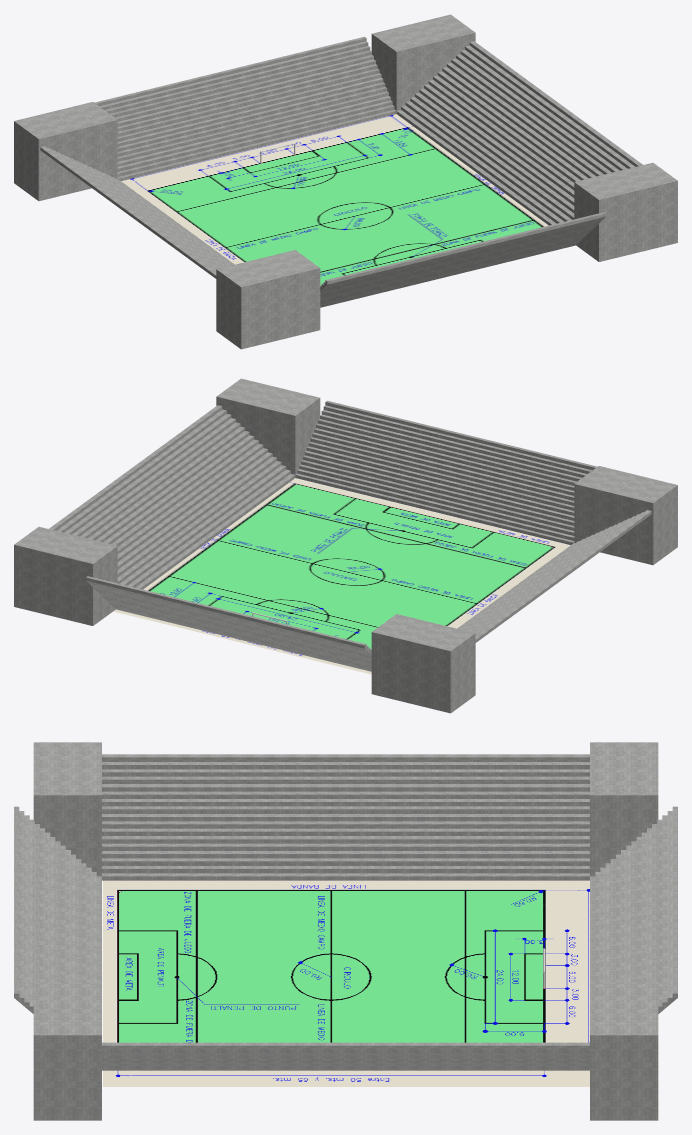
3 renders of one model, top to bottom at view 1: azimuth 30°, elevation 25°; view 2: azimuth 150°, elevation 25°; view 3: azimuth 270°, elevation 25°, orthographic. The views are drawn at different scales.
Parts seen in each view (by area): view 1: Gradas001, Surface001; view 2: Gradas001, Surface001; view 3: Gradas001, Surface001.
Part boxes in pixels (box(x1,y1,x2,y2)): Gradas001: box(14, 14, 677, 349); Surface001: box(121, 114, 548, 285); Gradas001: box(14, 378, 677, 713); Surface001: box(113, 478, 570, 674); Gradas001: box(14, 742, 677, 1120); Surface001: box(103, 880, 589, 1086).
Size of the model in its own units: 81.69 by 11.1 by 78.23.
3 materials, 3 textured.
